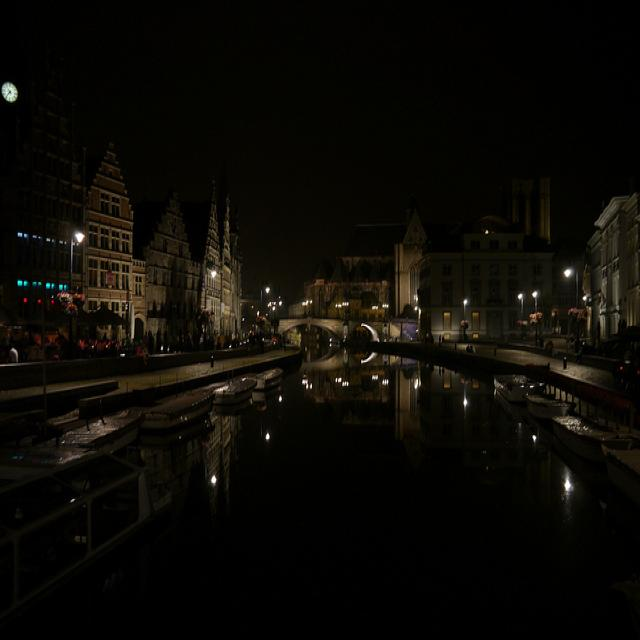Boat: (53, 390, 153, 473), (552, 394, 633, 459), (140, 377, 222, 437), (522, 373, 573, 437), (602, 431, 640, 516), (490, 358, 542, 420), (215, 362, 258, 408), (247, 350, 278, 398)
